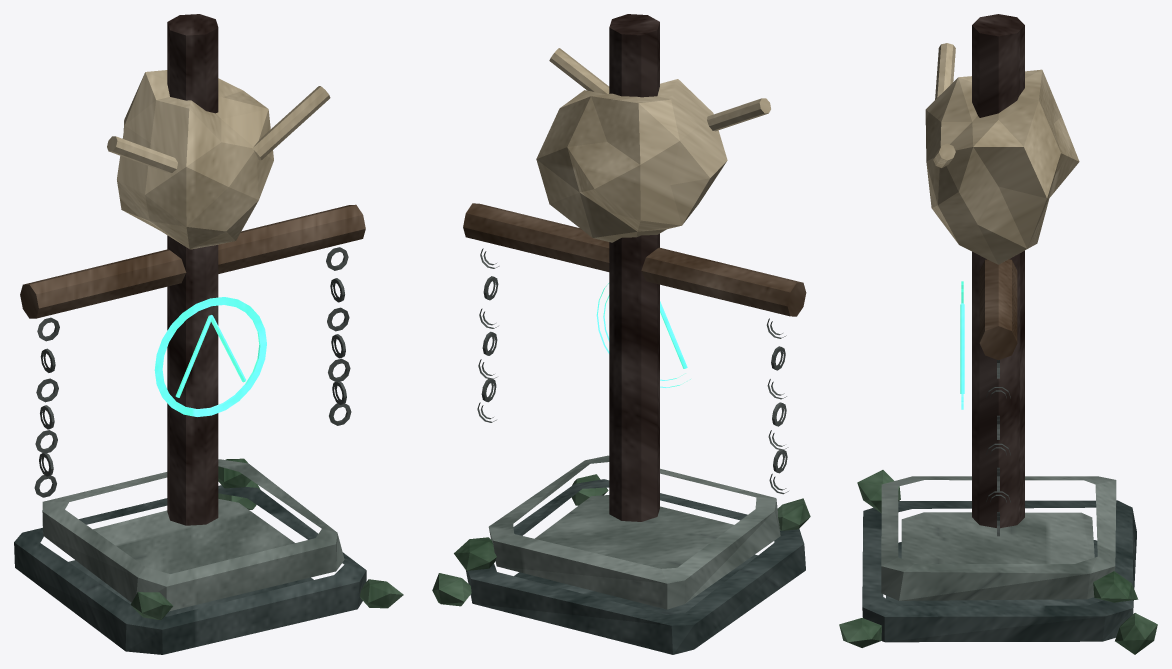
File: 0501_effigy_01.glb
The picture shows the model from 3 angles, left to right: view 1: azimuth 30°, elevation 25°; view 2: azimuth 150°, elevation 25°; view 3: azimuth 270°, elevation 25°; orthographic projection.
Parts seen in each view (by area): view 1: bone, stone, stone_dark, wood_dark, wood, iron, glow, moss; view 2: bone, stone, wood_dark, stone_dark, wood, moss, iron, glow; view 3: stone, bone, stone_dark, wood_dark, moss, wood, glow, iron.
Boxes of the visible parts, box(x1,y1,x2,y2) form: bone: box(107, 70, 330, 249); stone: box(42, 459, 344, 611); stone_dark: box(14, 485, 366, 654); wood_dark: box(167, 14, 218, 525); wood: box(20, 204, 365, 318); iron: box(34, 247, 351, 497); glow: box(154, 297, 266, 416); moss: box(130, 458, 403, 620); bone: box(536, 48, 770, 242); stone: box(488, 455, 780, 609); wood_dark: box(609, 14, 659, 521); stone_dark: box(466, 479, 805, 654); wood: box(463, 203, 806, 316); moss: box(432, 474, 810, 606); iron: box(477, 248, 788, 494); glow: box(596, 283, 690, 387); stone: box(881, 476, 1116, 600); bone: box(925, 43, 1079, 264); stone_dark: box(862, 500, 1136, 642); wood_dark: box(972, 14, 1024, 528); moss: box(839, 470, 1157, 654); wood: box(979, 259, 1017, 360); glow: box(960, 281, 964, 409); iron: box(986, 360, 1010, 536).
Size of the model in its own units: 2 by 3.3 by 1.68.
Materials: 8 (8 with a texture image).
